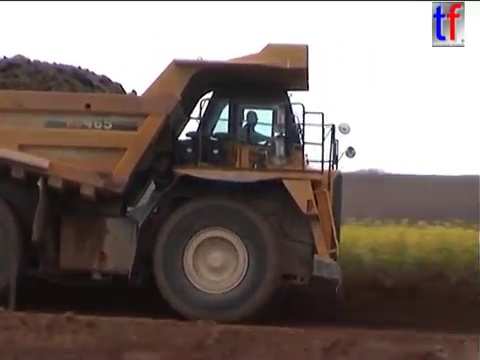truck: (1, 39, 358, 327)
